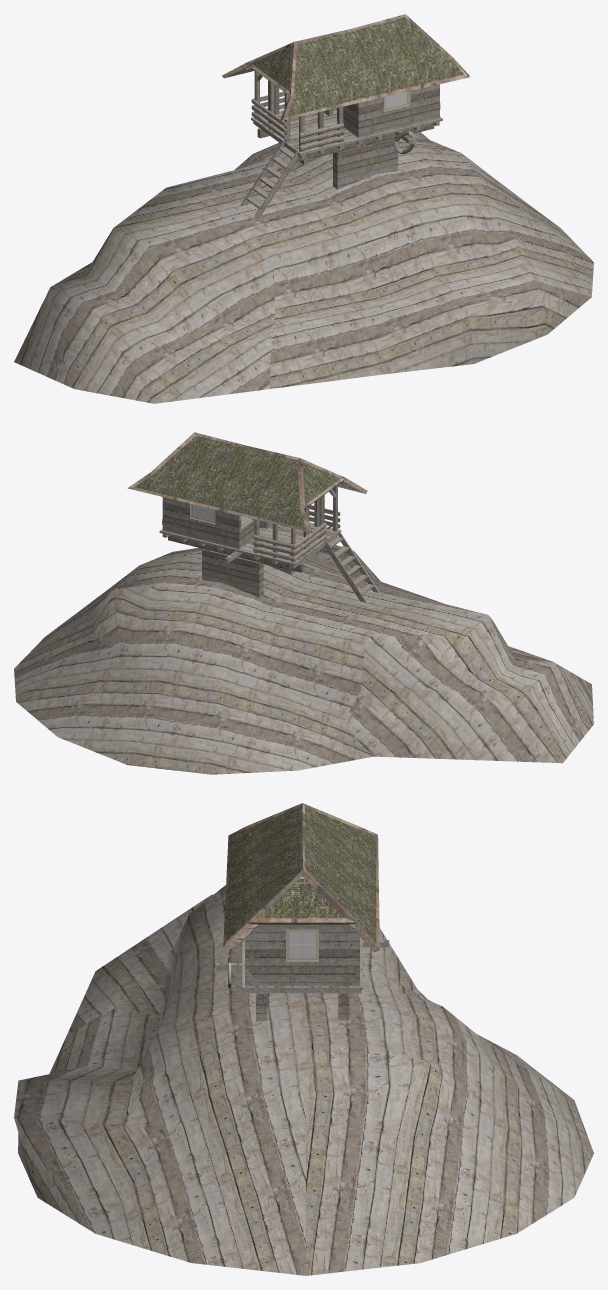
Rendered from beachhut.fbx.
3 renders of one model, top to bottom at view 1: azimuth 30°, elevation 25°; view 2: azimuth 150°, elevation 25°; view 3: azimuth 270°, elevation 25°, orthographic. The views are drawn at different scales.
Parts seen in each view (by area): view 1: model; view 2: model; view 3: model.
Part boxes in pixels (<box>): model: <box>14,14,593,403</box>; model: <box>14,432,593,774</box>; model: <box>14,803,593,1275</box>.
Bounding box in the file's own units: 2835 × 1255 × 2114.
